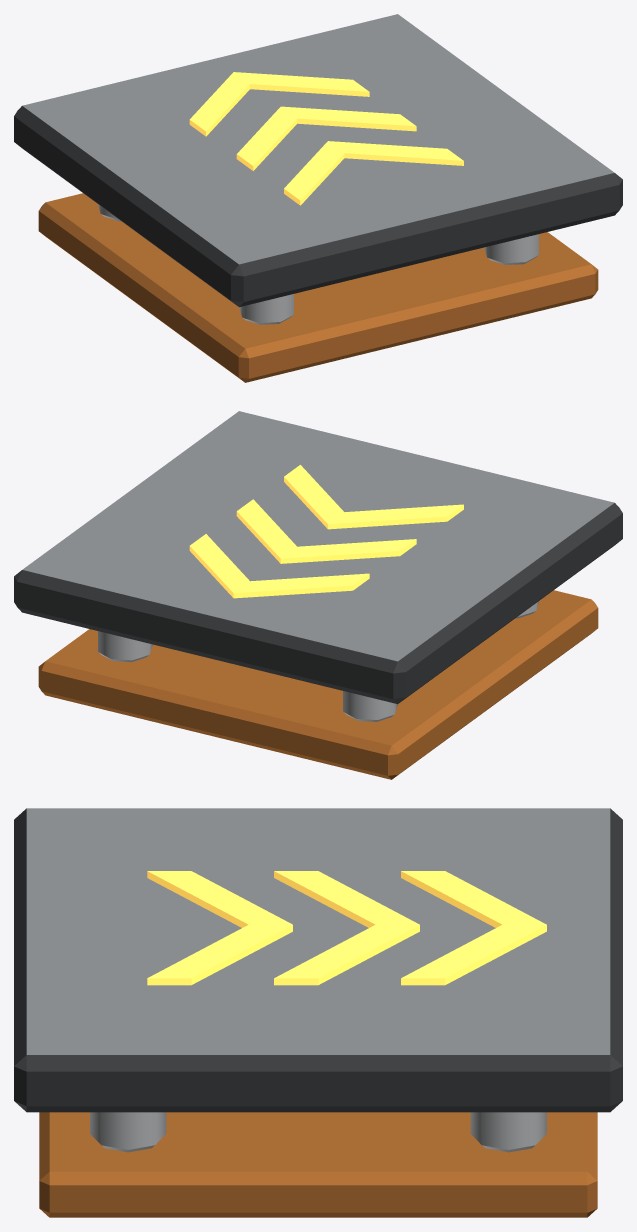
File: R4D_KnockbackTrap_LOD1.fbx
The picture shows the model from 3 angles, top to bottom: view 1: azimuth 30°, elevation 25°; view 2: azimuth 150°, elevation 25°; view 3: azimuth 270°, elevation 25°; orthographic projection. The views are drawn at different scales.
Parts seen in each view (by area): view 1: R4D_KnockbackTrap_LOD1; view 2: R4D_KnockbackTrap_LOD1; view 3: R4D_KnockbackTrap_LOD1.
Part boxes in pixels (x1,y1,x2,y2): R4D_KnockbackTrap_LOD1: [14, 14, 622, 382]; R4D_KnockbackTrap_LOD1: [14, 411, 622, 779]; R4D_KnockbackTrap_LOD1: [14, 808, 622, 1217].
Bounding box in the file's own units: 0.48 × 0.156 × 0.48.
